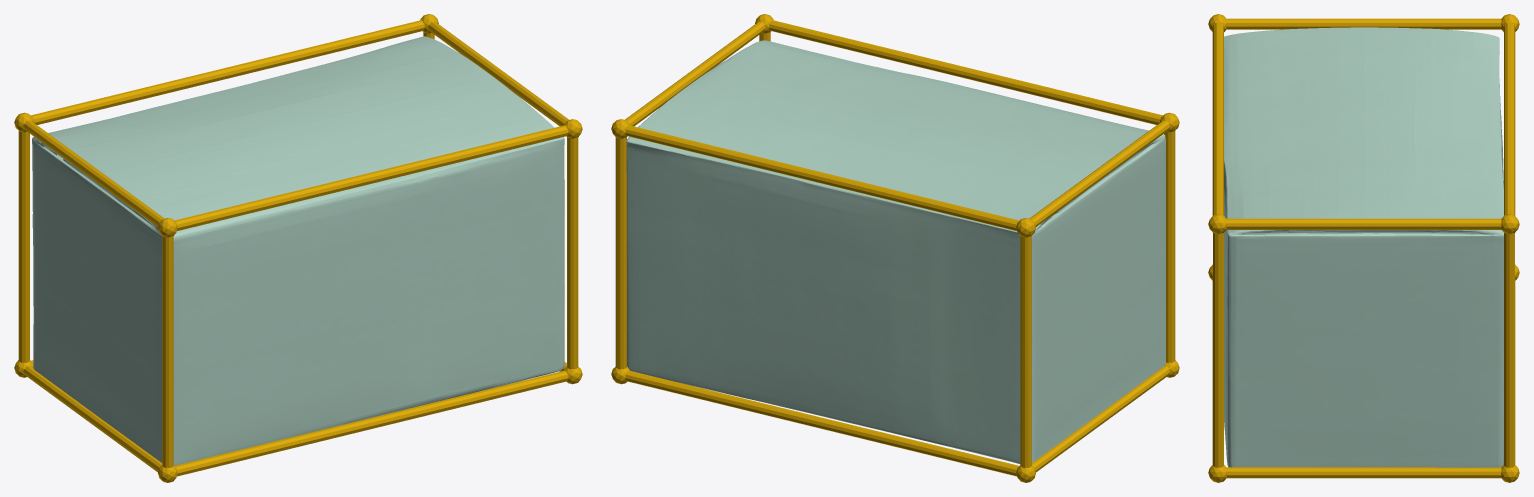
Rendered from sam3d_with_obb_viewer.glb.
3 renders of one model, left to right at view 1: azimuth 30°, elevation 25°; view 2: azimuth 150°, elevation 25°; view 3: azimuth 270°, elevation 25°, orthographic.
Visible parts, largest first — view 1: world; view 2: world; view 3: world.
Boxes of the visible parts, x1,y1,x2,y2 form: world: (14, 14, 582, 482); world: (611, 14, 1179, 482); world: (1208, 14, 1519, 482).
Bounding box in the file's own units: 0.111 × 0.0662 × 0.07.
